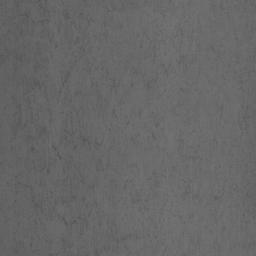Silk spot: (0, 0, 202, 235), (13, 176, 174, 256), (131, 16, 256, 97), (205, 105, 256, 256), (103, 0, 147, 27), (212, 4, 229, 22), (96, 159, 109, 171)
